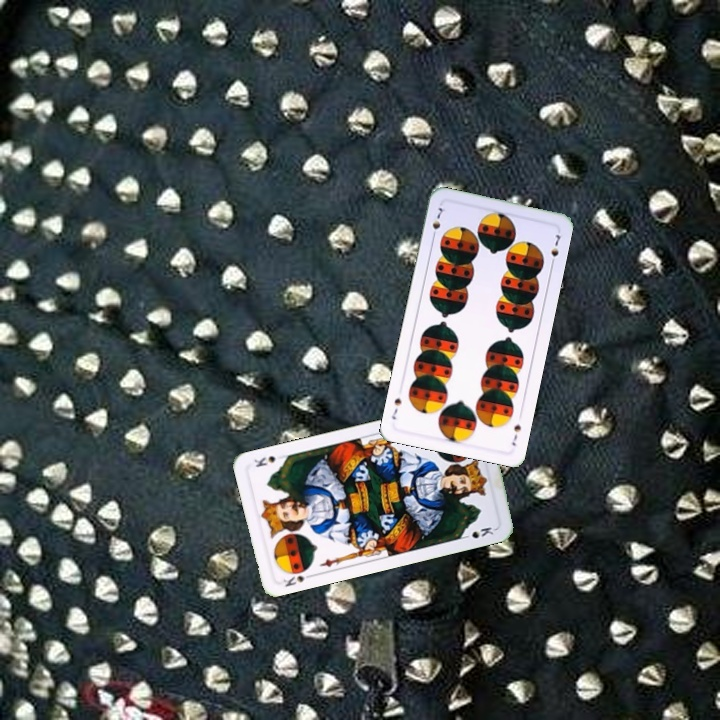S7: (428, 203, 448, 241), (508, 420, 523, 448)
SK: (279, 570, 316, 590)
